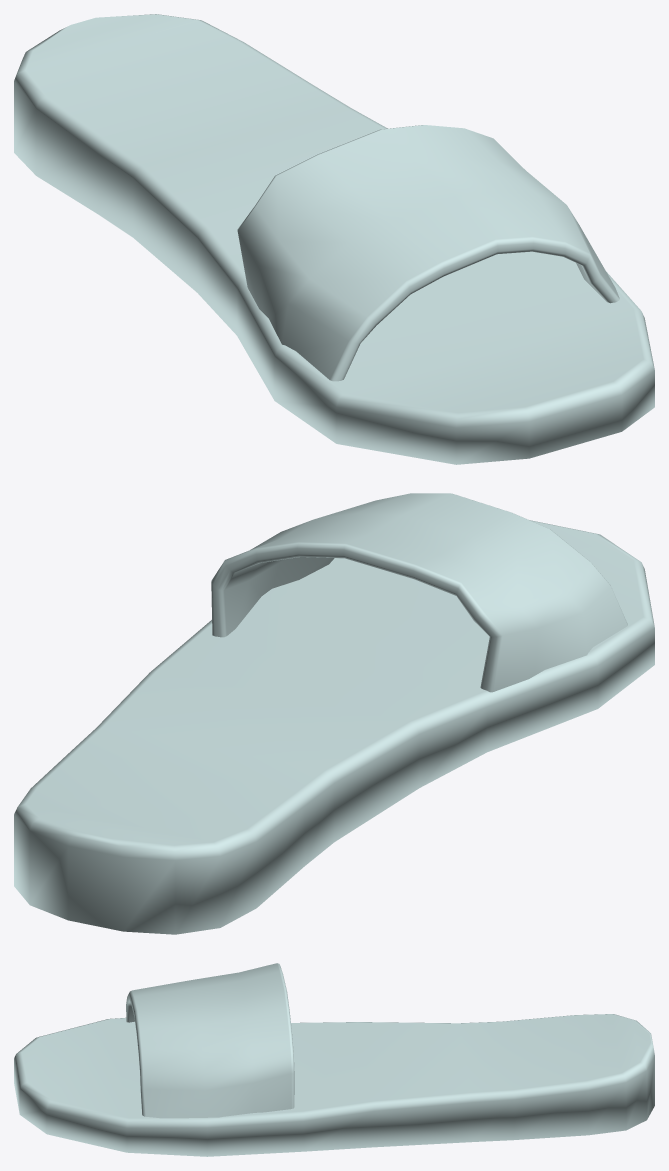
Rendered from Slipper_1.fbx.
3 renders of one model, top to bottom at view 1: azimuth 30°, elevation 25°; view 2: azimuth 150°, elevation 25°; view 3: azimuth 270°, elevation 25°, orthographic. The views are drawn at different scales.
Parts seen in each view (by area): view 1: sdg; view 2: sdg; view 3: sdg.
Boxes of the visible parts, x1,y1,x2,y2 form: sdg: (14, 14, 654, 464); sdg: (14, 493, 654, 934); sdg: (14, 963, 654, 1156).
Size of the model in its own units: 0.1767 by 0.0873 by 0.4345.
